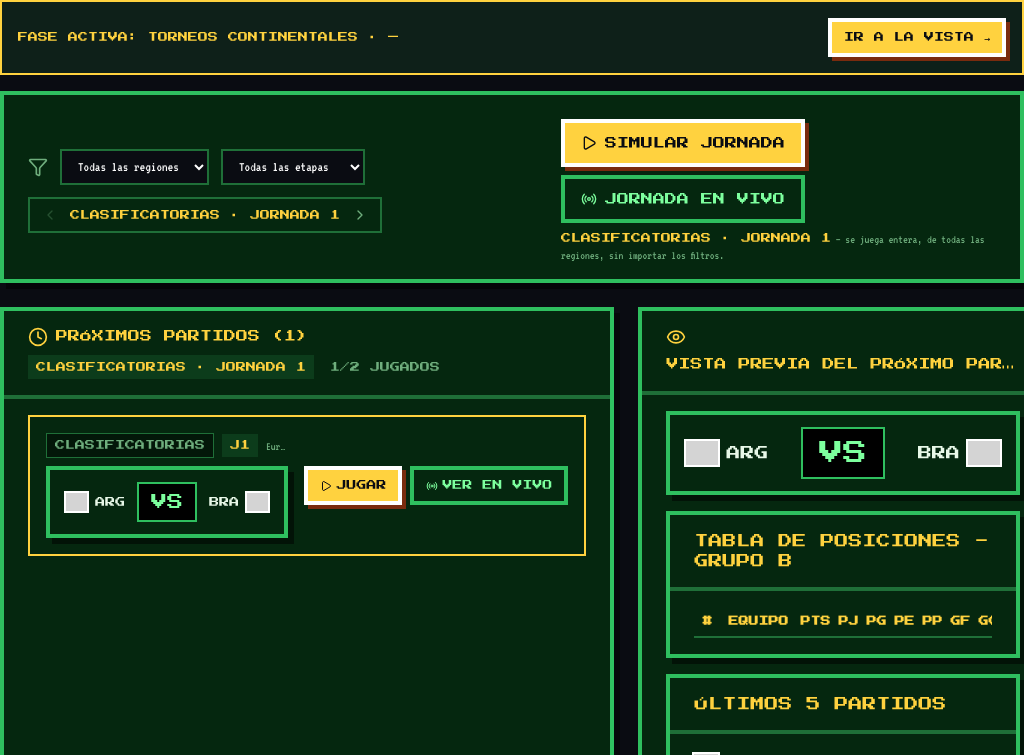
it: MatchCenter — por qué no hay partidos próximos › si lo que se está mirando ya se jugó pero queda pendiente en el resto, lo dice
This screenshot has width=1024, height=755.
Filtrar por América, donde el único partido ya se jugó.
Select "America" in the 1st dropdown showing "todas las regiones": [134, 167] box [60,149,209,185]
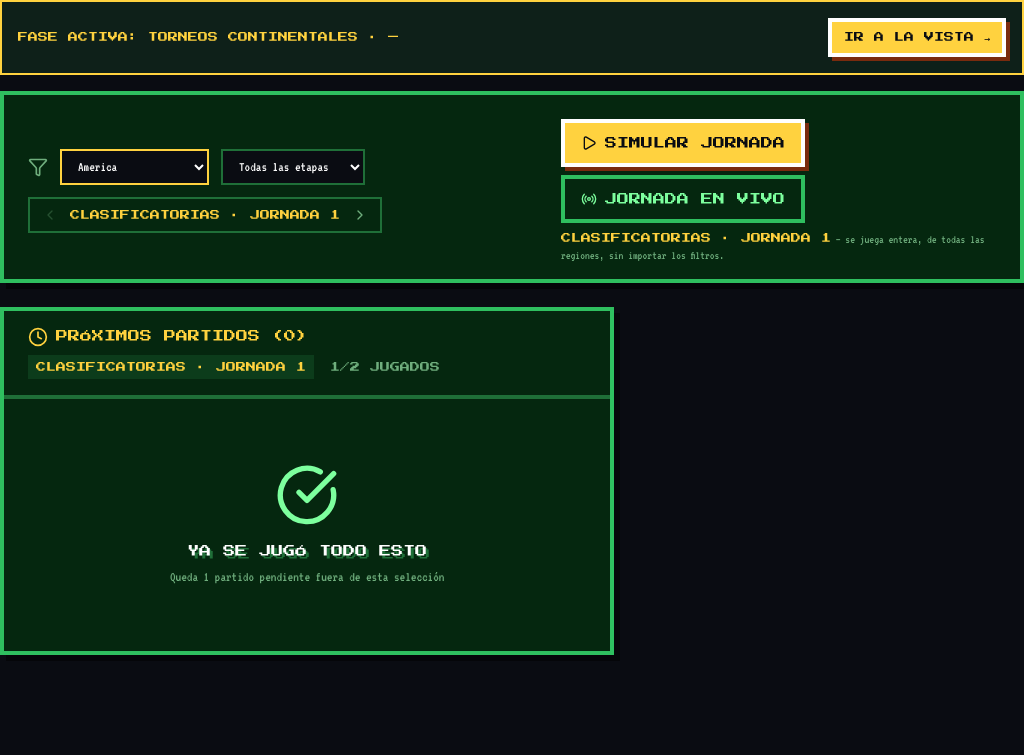
Expected: the text "Queda 1 partido pendiente fuera de esta selección" is shown, [170,570,444,584]
